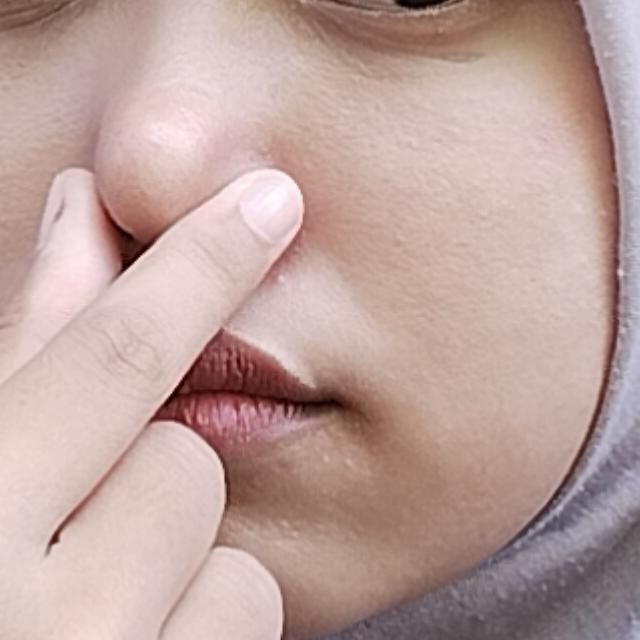bau: (0, 48, 446, 640)
